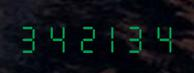four: (43, 20, 68, 53), (148, 20, 173, 53)
one: (96, 20, 121, 53)
three: (17, 20, 42, 53), (122, 20, 147, 53)
two: (70, 20, 95, 53)
